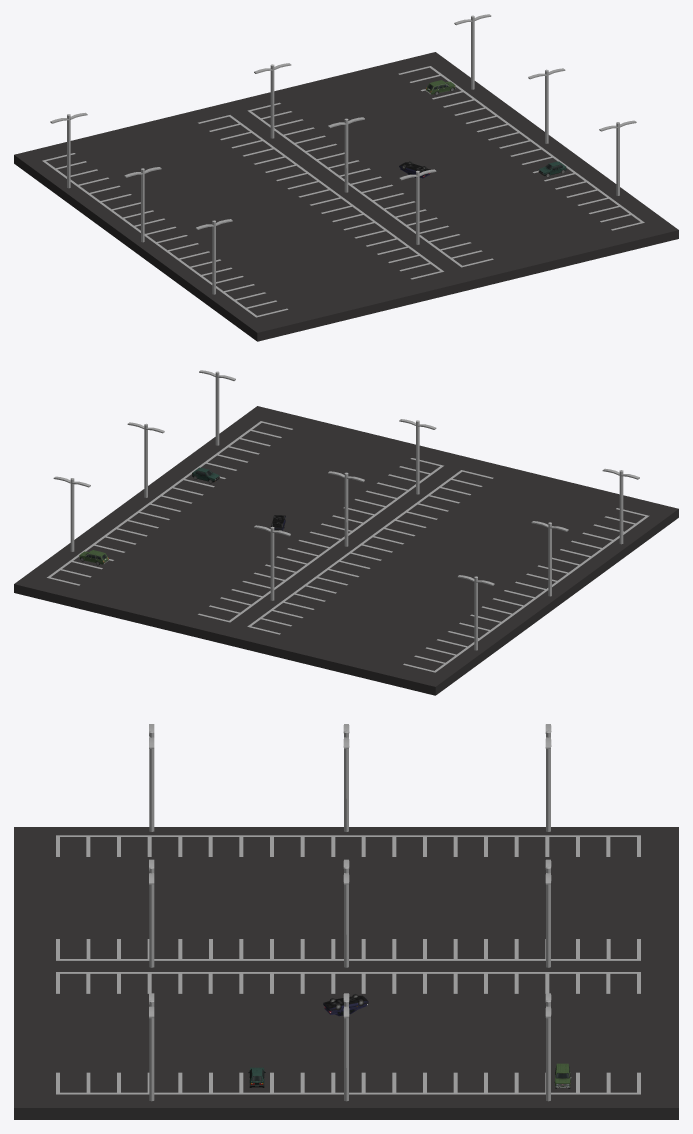
The model's file is map.fbx.
The picture shows the model from 3 angles, top to bottom: view 1: azimuth 30°, elevation 25°; view 2: azimuth 150°, elevation 25°; view 3: azimuth 270°, elevation 25°; orthographic projection. The views are drawn at different scales.
Parts seen in each view (by area): view 1: pCube1, Slots; view 2: pCube1, Slots; view 3: pCube1, Slots, Car2.
Boxes of the visible parts, x1,y1,x2,y2 form: pCube1: (14, 52, 678, 341); Slots: (42, 66, 644, 317); pCube1: (14, 406, 678, 695); Slots: (47, 421, 649, 672); pCube1: (14, 827, 678, 1119); Slots: (56, 835, 640, 1094); Car2: (323, 994, 368, 1016).
Bounding box in the file's own units: 104 × 18.74 × 100.
Materials: 5 (3 with a texture image).
